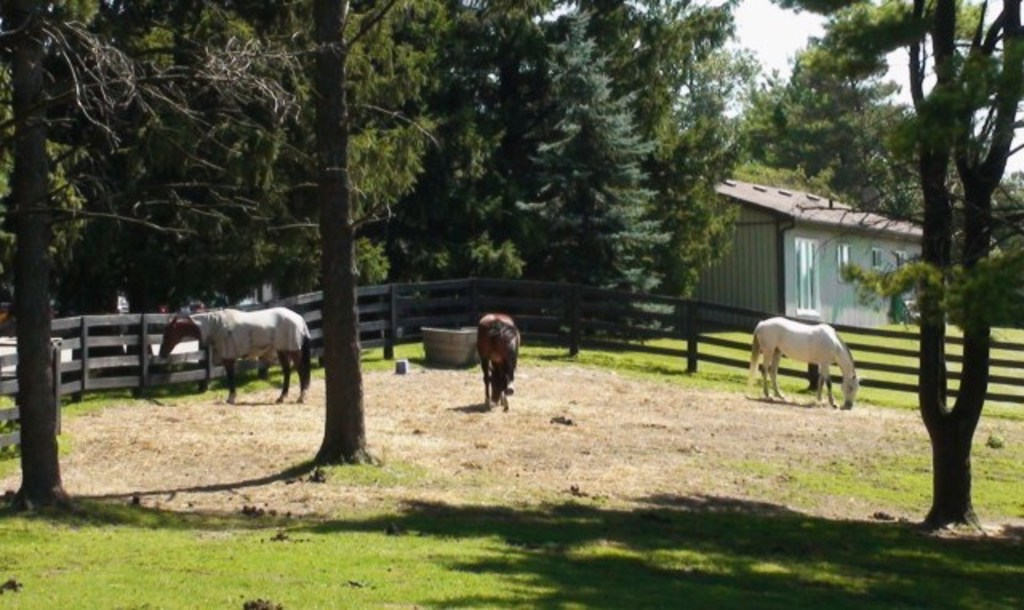horse: (156, 305, 315, 405), (740, 315, 865, 409), (470, 307, 526, 414)
